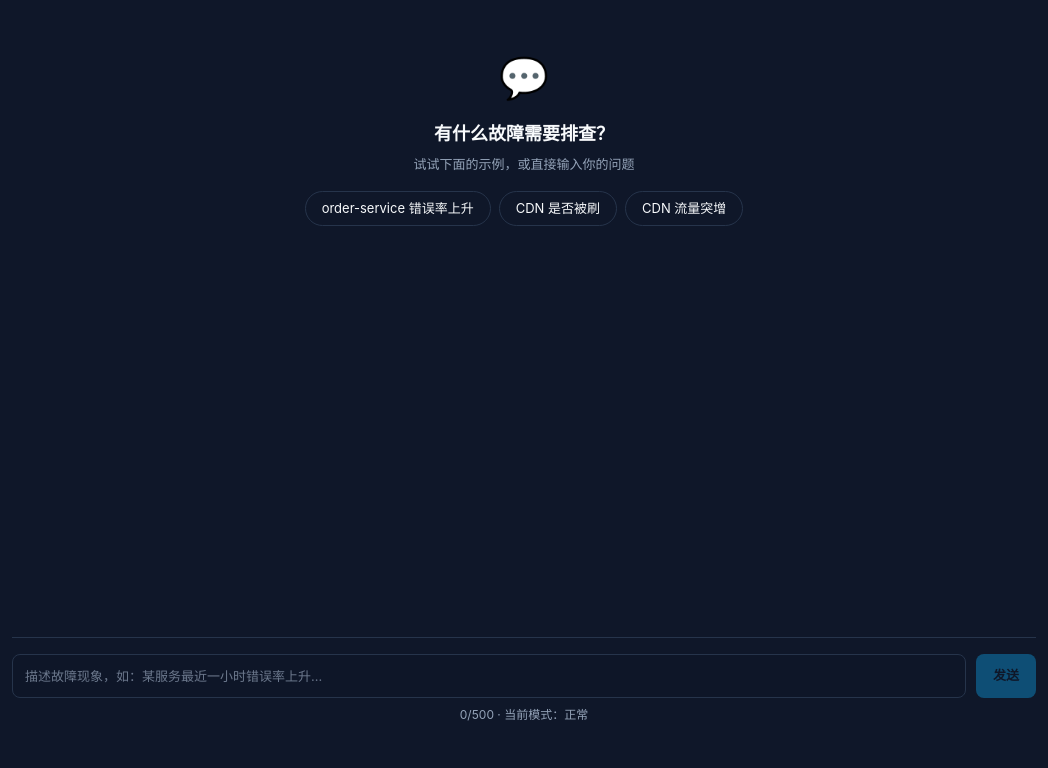
Test: ChatPanel（原型 chat.html 口径） › chip 点击回填输入框（不触发提交）
Click the button with class "chip" showing "order-service 错误率上升" at (398, 208), box [305,190,491,226]
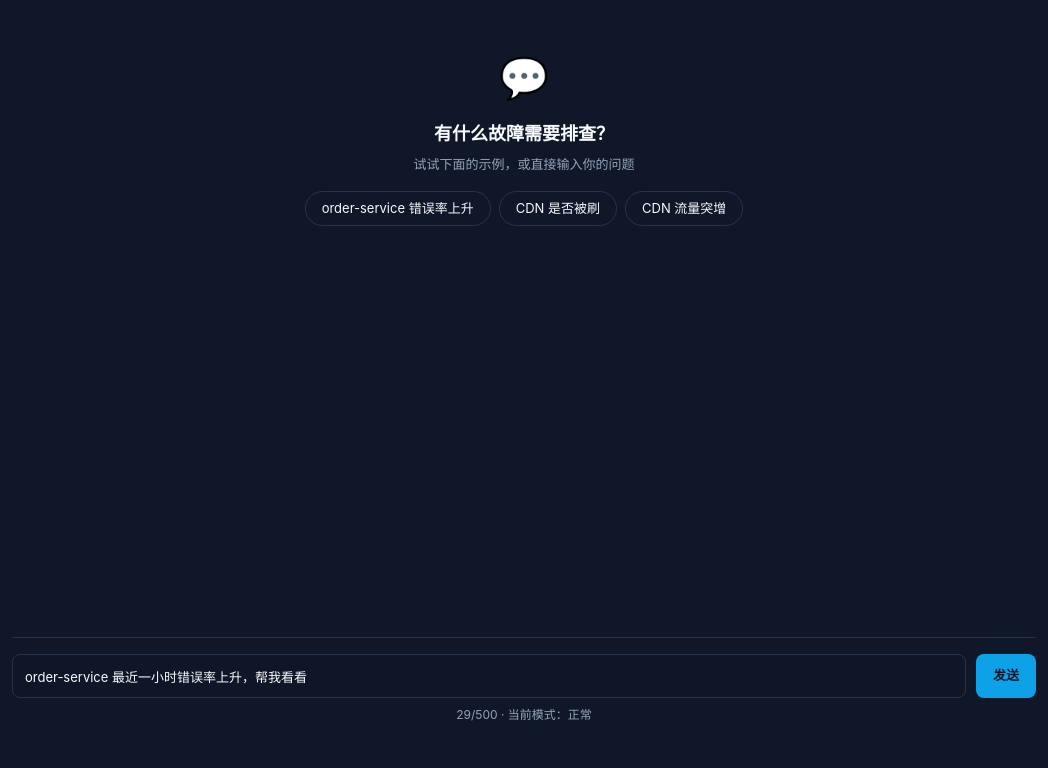
Check: the field with id "chatInput" holds "order-service 最近一小时错误率上升，帮我看看", box [12,654,966,698]
